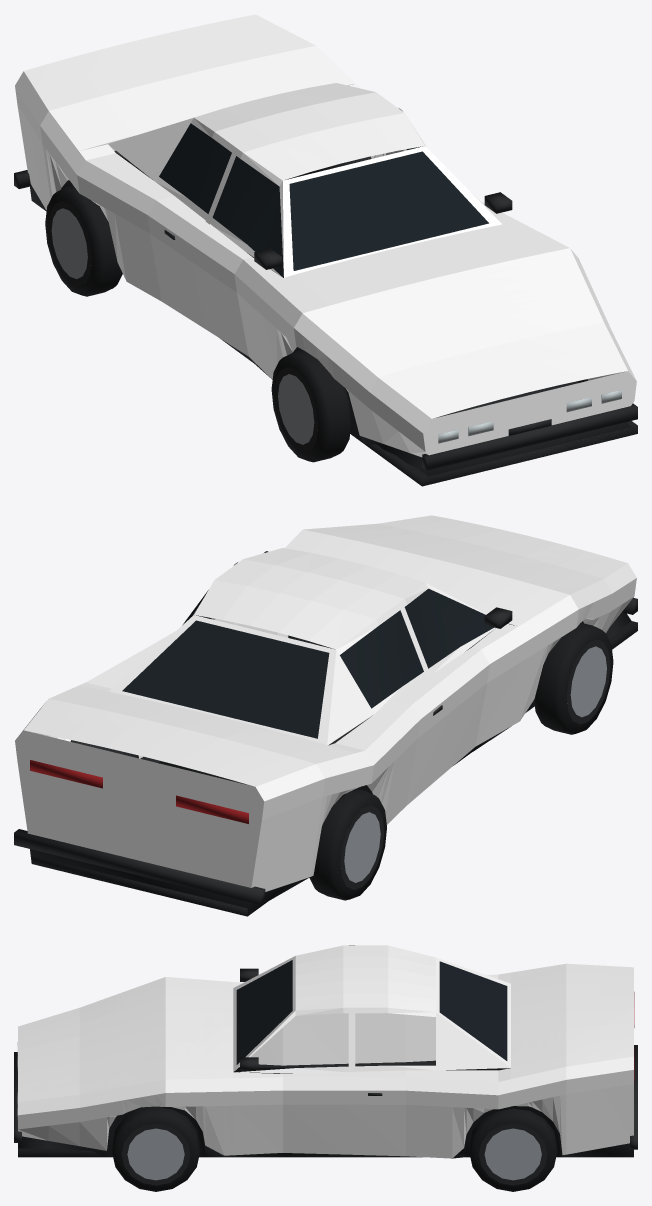
File: mizuchi_lampejo.glb
3 renders of one model, top to bottom at view 1: azimuth 30°, elevation 25°; view 2: azimuth 150°, elevation 25°; view 3: azimuth 270°, elevation 25°, orthographic. The views are drawn at different scales.
Visible parts, largest first — view 1: Body_Paint, Body_Details, Mount_FrontLeft_Wheel_Details, Mount_RearLeft_Wheel_Details; view 2: Body_Paint, Body_Details, Mount_FrontLeft_Wheel_Details, Mount_RearLeft_Wheel_Details; view 3: Body_Paint, Body_Details, Mount_FrontRight_Wheel_Details, Mount_RearRight_Wheel_Details.
Part boxes in pixels (x1,y1,x2,y2): Body_Paint: (15,14,636,457); Body_Details: (14,123,637,486); Mount_FrontLeft_Wheel_Details: (271,350,351,462); Mount_RearLeft_Wheel_Details: (45,185,122,296); Body_Paint: (15,515,636,891); Body_Details: (14,551,637,916); Mount_FrontLeft_Wheel_Details: (534,622,613,734); Mount_RearLeft_Wheel_Details: (309,789,386,900); Body_Paint: (18,945,633,1158); Body_Details: (14,960,637,1158); Mount_FrontRight_Wheel_Details: (112,1106,200,1191); Mount_RearRight_Wheel_Details: (469,1108,557,1191).
Bounding box in the file's own units: 1.87 × 1.25 × 4.32.
2 materials, 1 textured.
